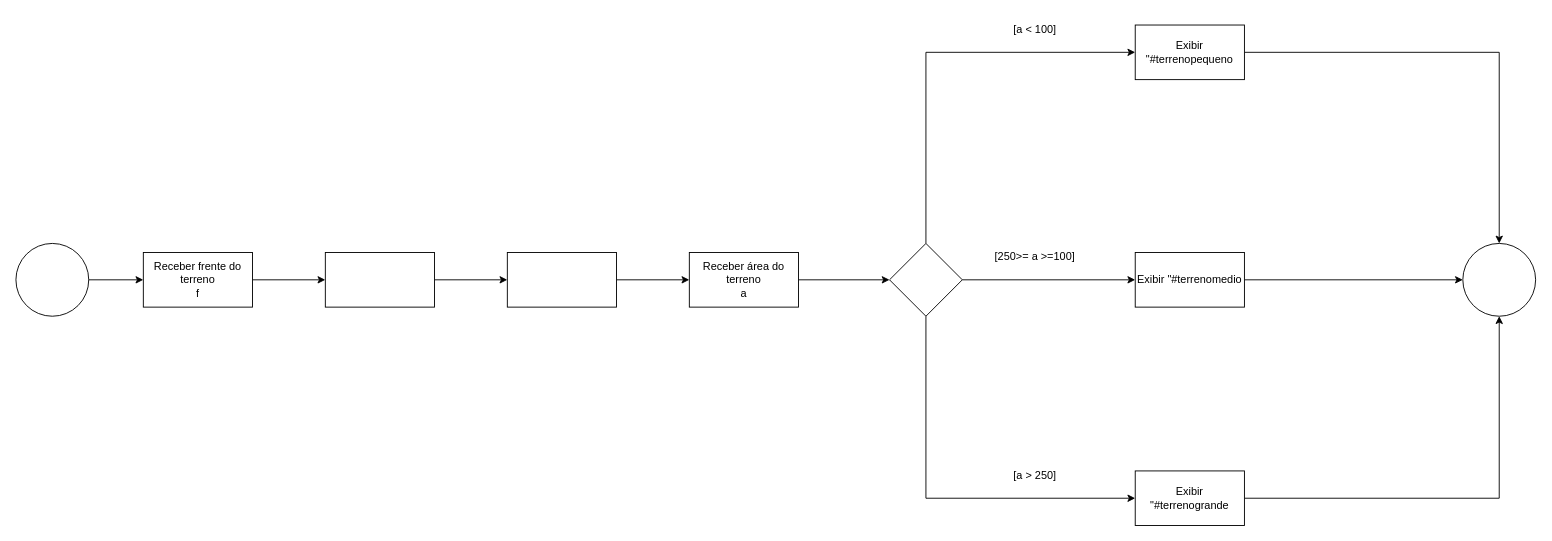
Some shapes in this 1552 by 541 pixel diagram are drawn without their labels. The shapes that lost their labels are listed below. From the top down, each one's centre as x and y in pixels, then its label:
At [379,279]: "Receber lateral do terreno l".
At [561,279]: "Calcular área do terreno a = f * l".
